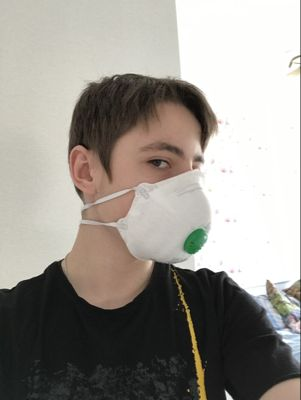with-mask: (58, 78, 215, 270)
